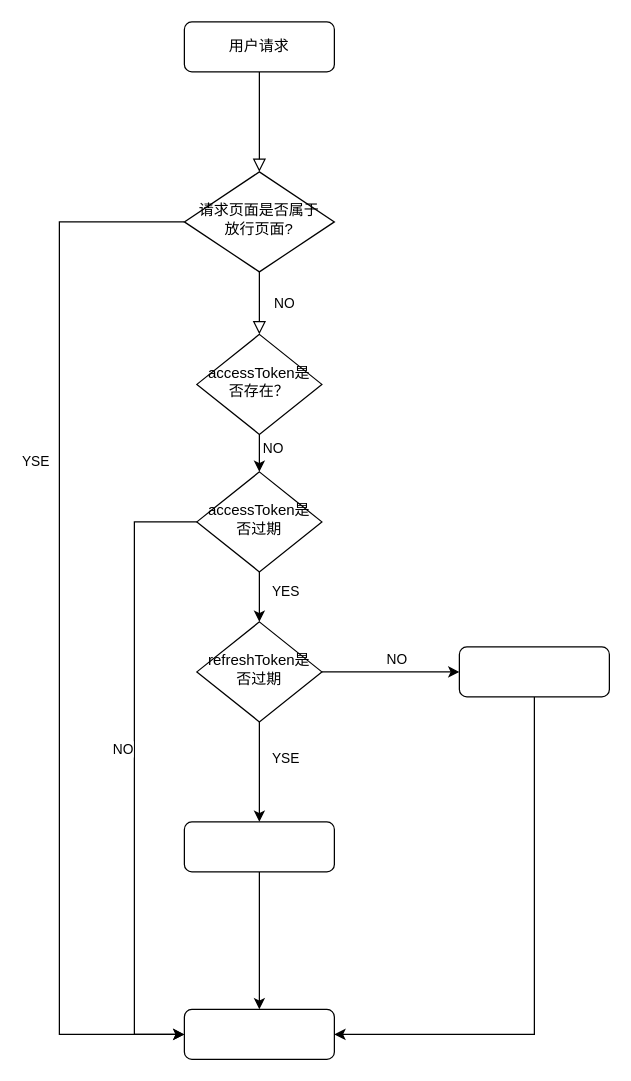
Image size: 631x1081. Some labels were removed from this diagram. The shapes that lost their labels are listed below. From the top down, each one's centre as x and y in pixels, then its label:
At (x=533, y=671): "刷新accessToken".
At (x=258, y=846): "跳转登录页面".
At (x=258, y=1033): "查询数据跳转到相应页面".
